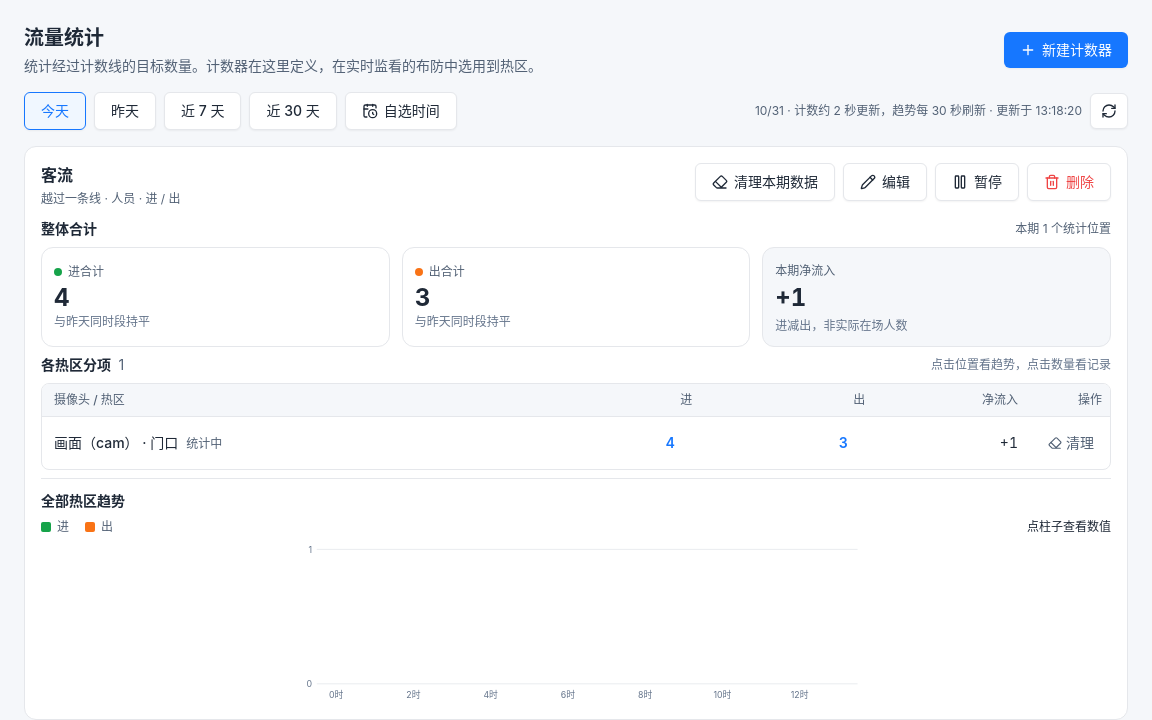
Test: 删除前说明会连同历史记录一起删除；确认后删除并刷新
This screenshot has width=1152, height=720.
Click the button "删除" at (1069, 182), box [1027, 163, 1111, 201]
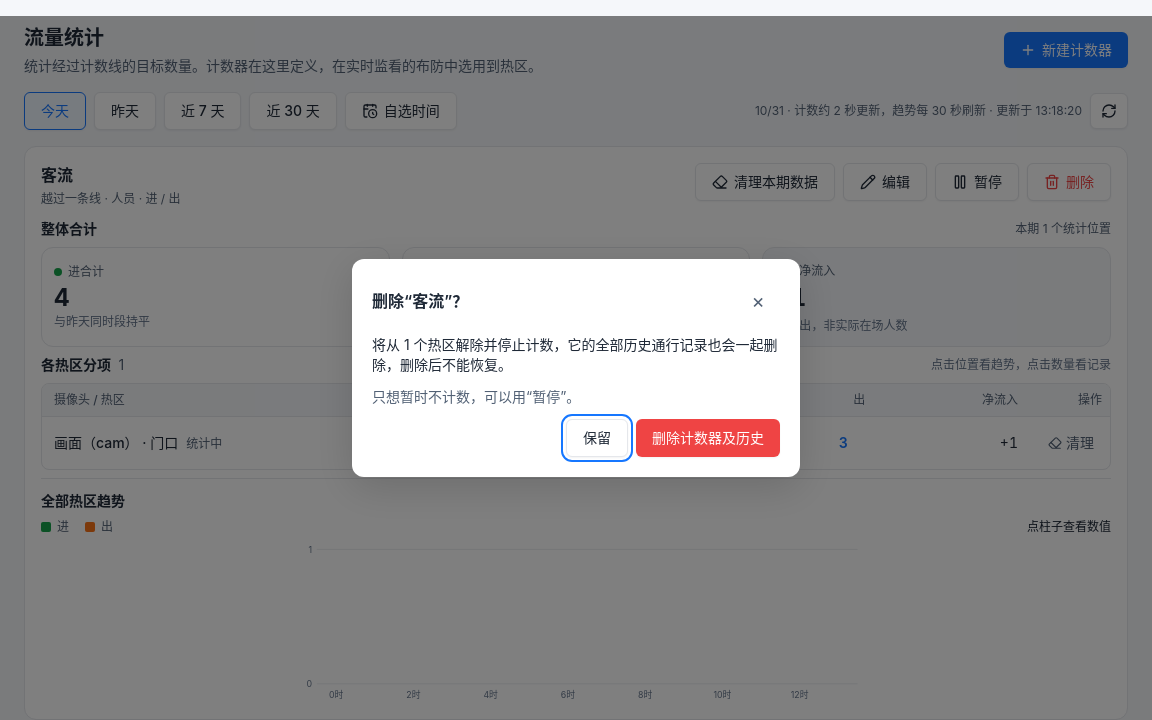
Check: the dialog named "确认删除计数器" shows "不能恢复", box [372, 336, 778, 373]
Click the button "删除计数器及历史" at (708, 438), box [636, 419, 780, 457]
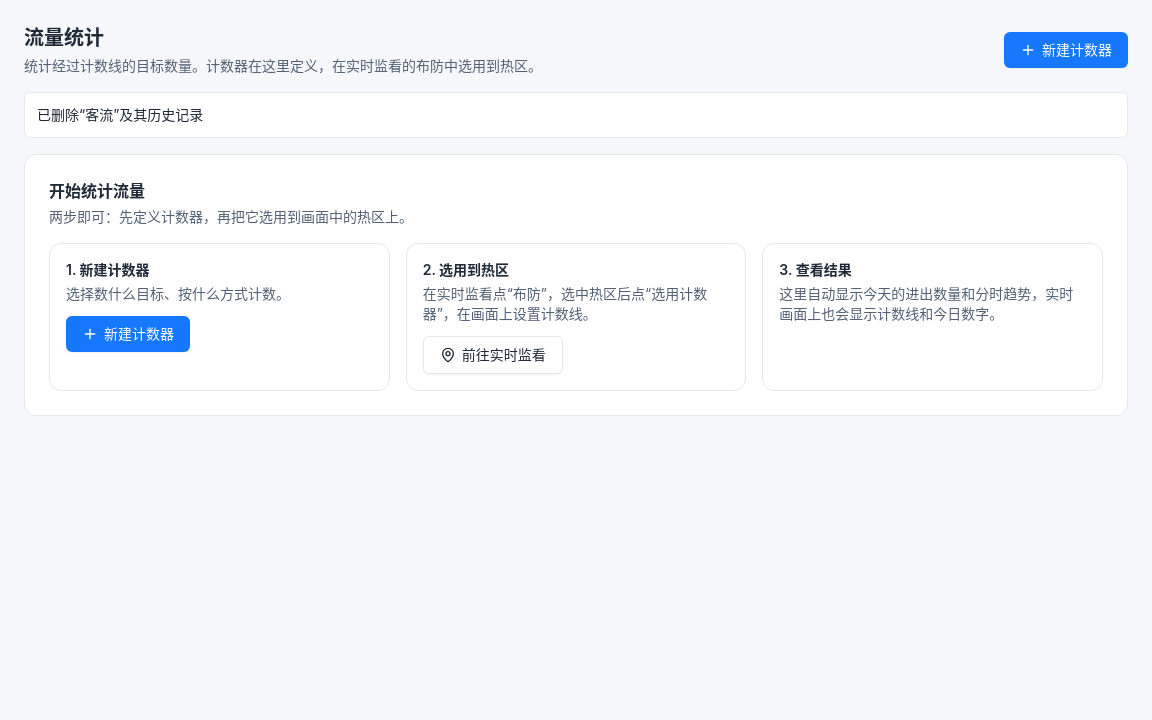
Check: the heading "开始统计流量" is shown, box [49, 181, 145, 201]
